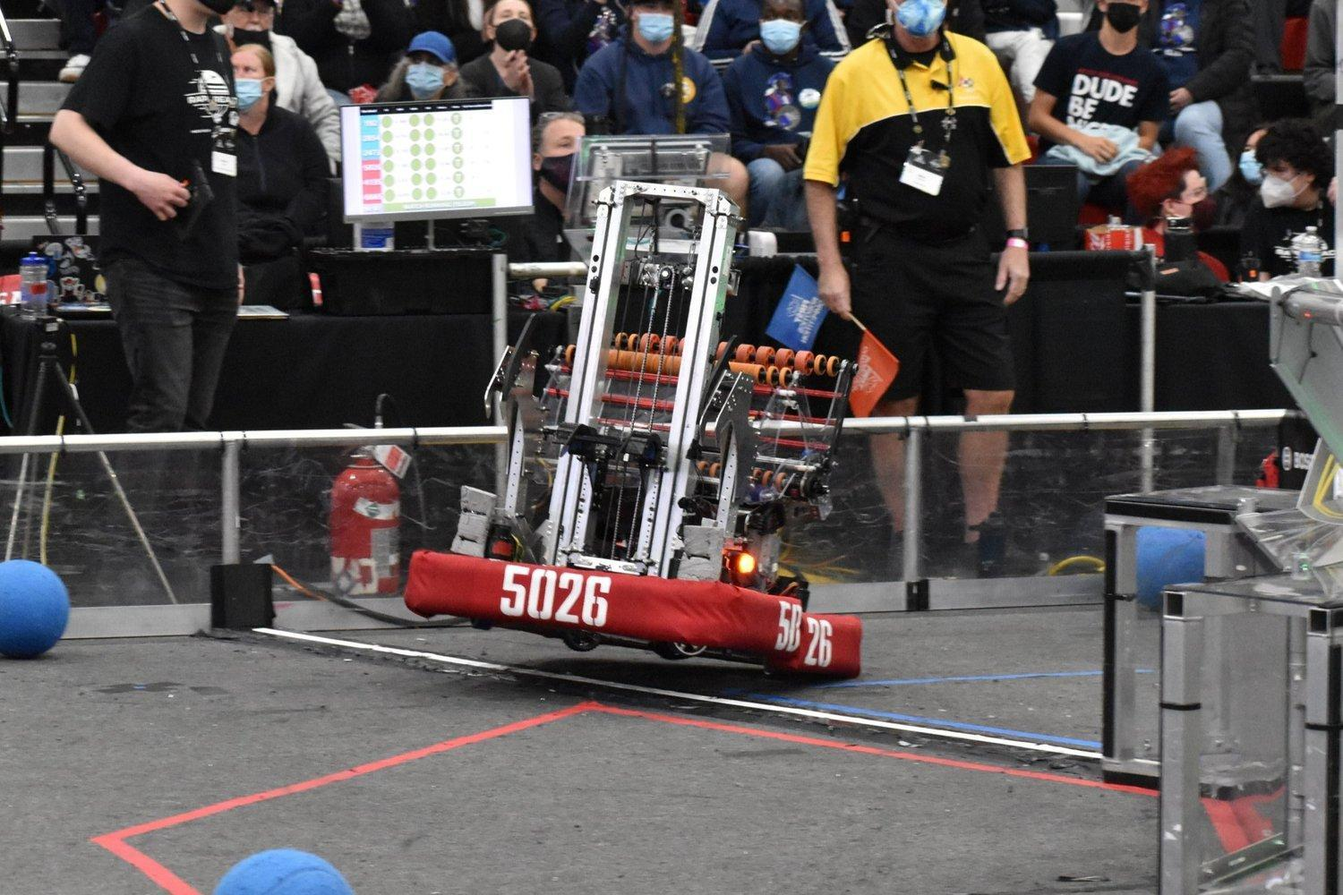robot: (389, 125, 874, 694)
